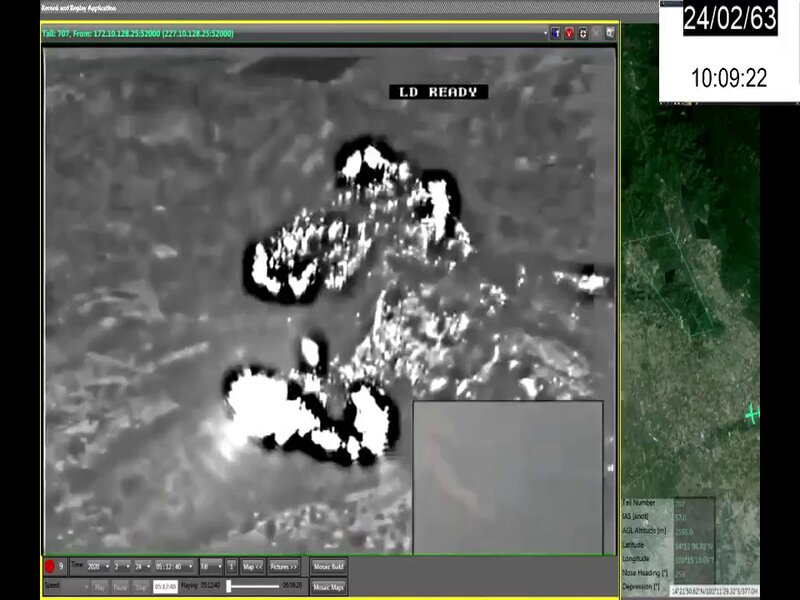Fire: (216, 134, 404, 470)
